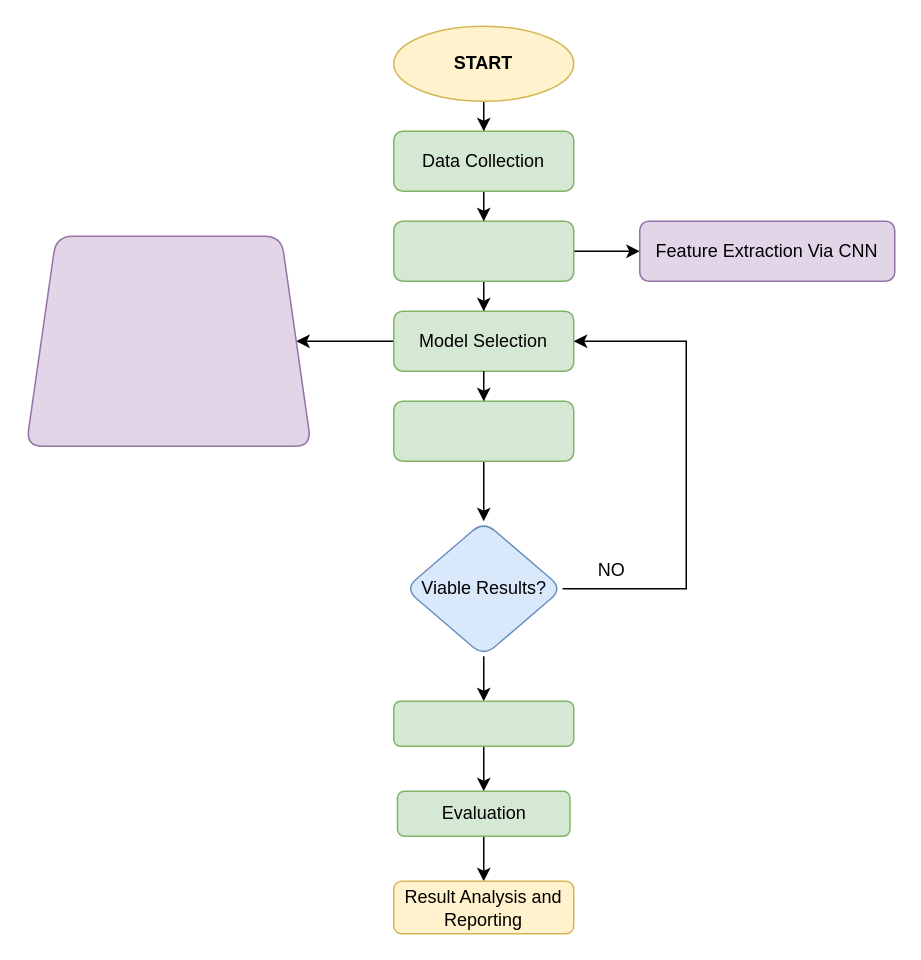
The diagram is 921 pixels wide and 960 high, and some of its shapes have lost their labels. Each missing label, with the centre of its shape:
"Data Pre-processing" goes at point (483, 250).
"Ensemble Them" goes at point (483, 723).
"Model Training" goes at point (483, 430).
"My Model VGG16 Xception ResNet50 ResNet50V2 ResNet15V2 DenseNet121 MobileNetV2" goes at point (168, 340).
